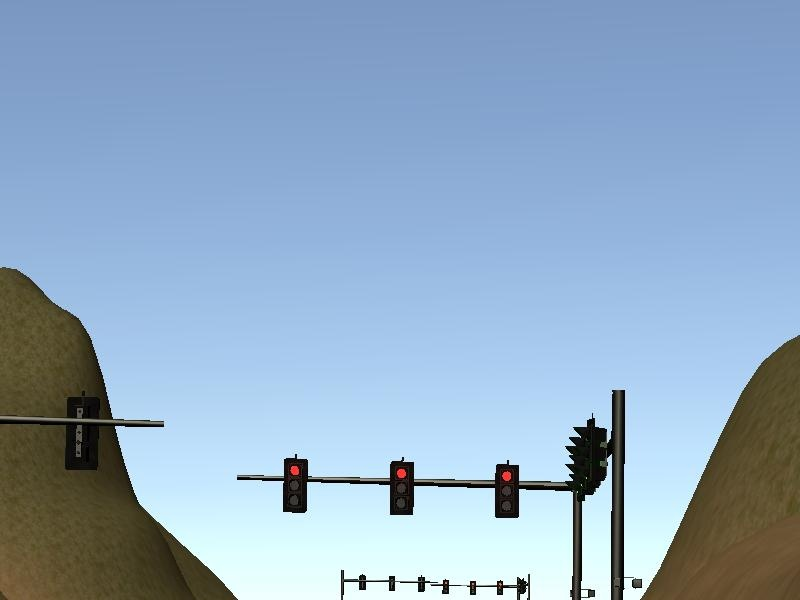red: (389, 459, 416, 518), (495, 463, 521, 519), (283, 458, 307, 513)
